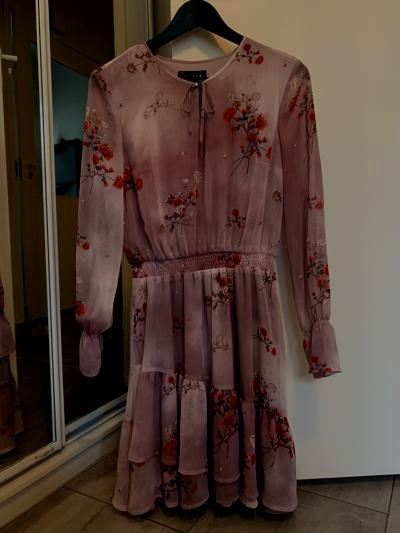Dress: (41, 30, 352, 499)
